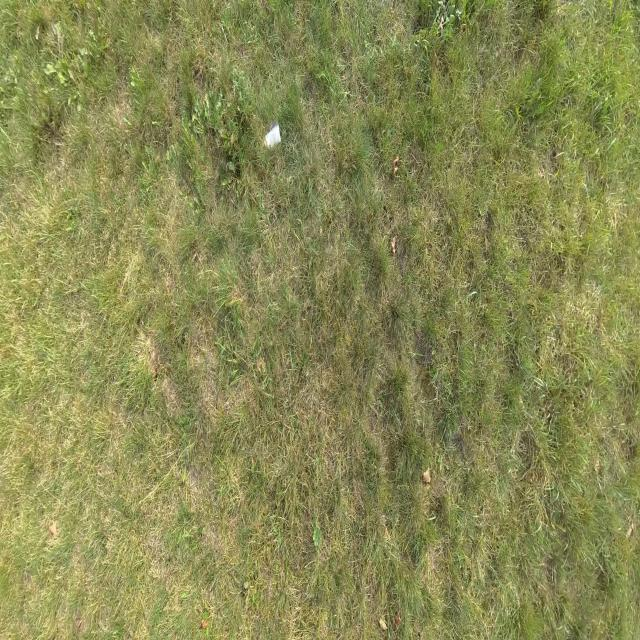rubbish: (262, 122, 281, 149)
